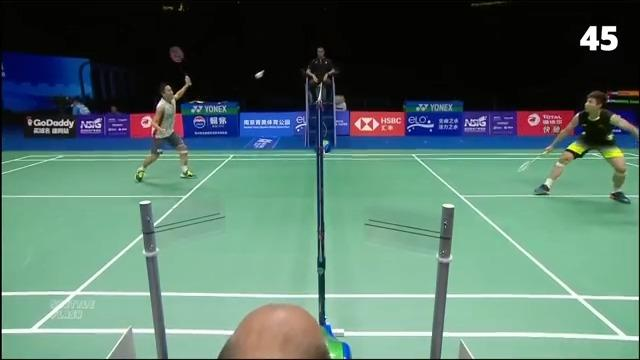Shuttlecock: (254, 66, 270, 80)
